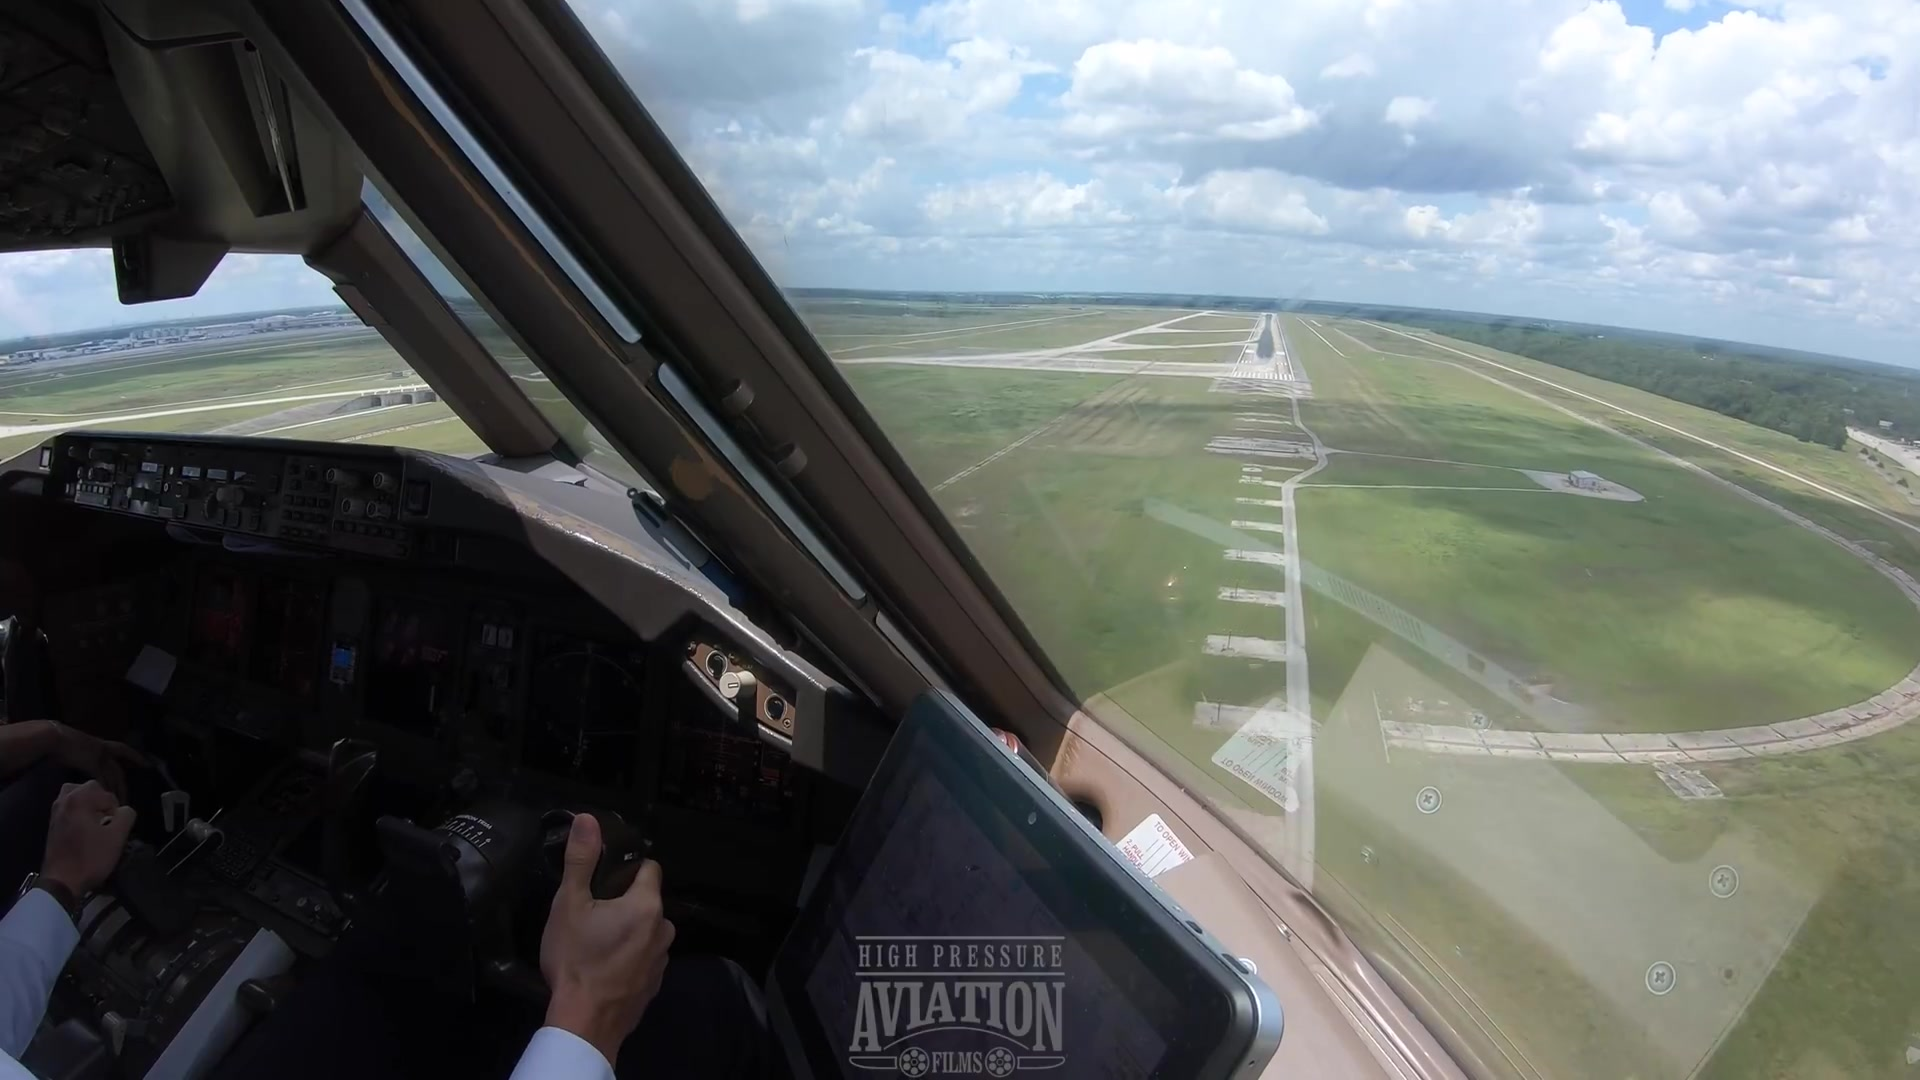entrance: (1232, 371, 1294, 380)
runway: (1228, 311, 1302, 386)
